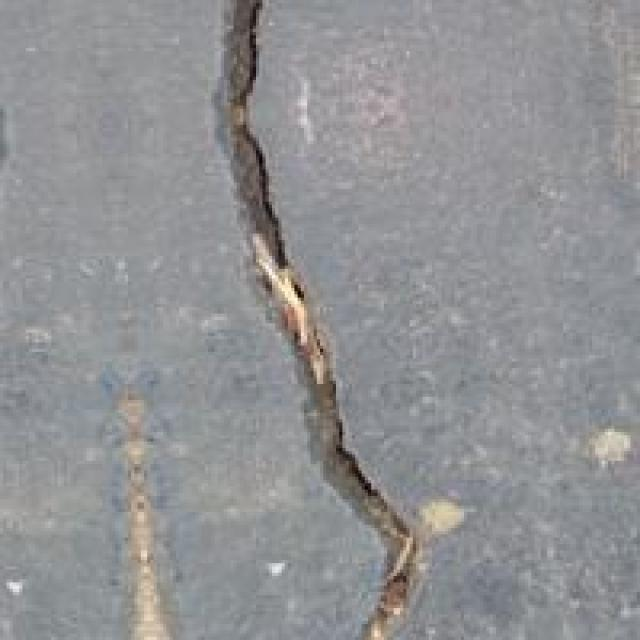Crack: (208, 0, 451, 637)
